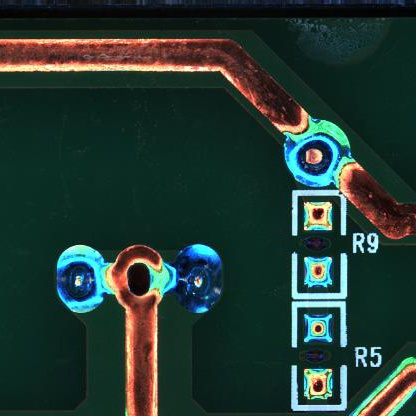spot: (283, 119, 353, 188), (54, 243, 107, 316), (175, 244, 225, 317)
